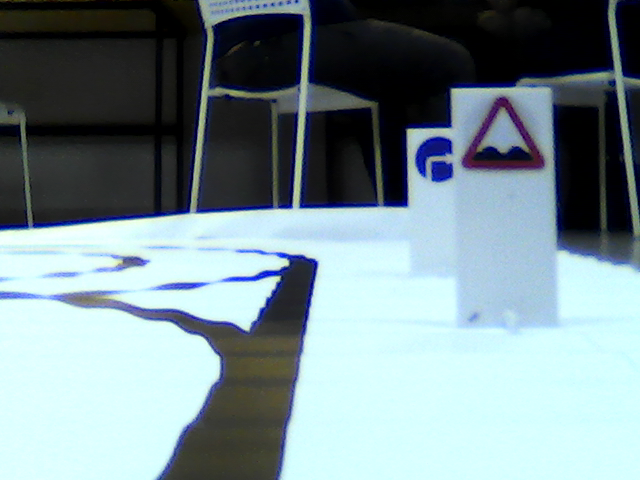Nerov: (464, 97, 545, 169)
Right: (414, 133, 456, 181)
